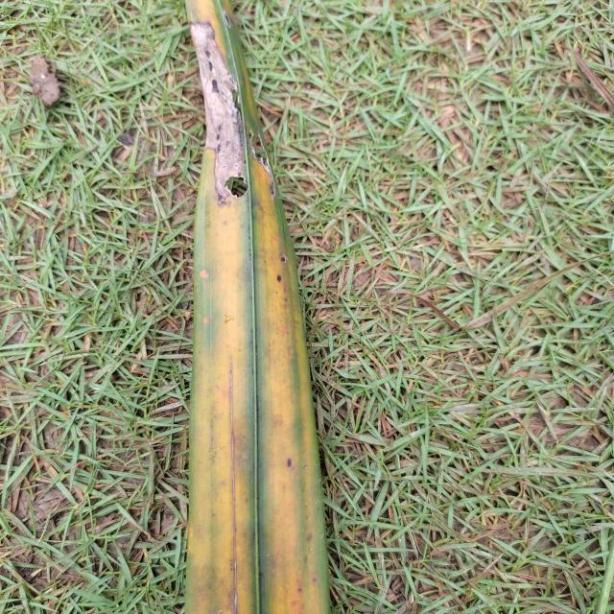Megnesium: (178, 3, 330, 614)
